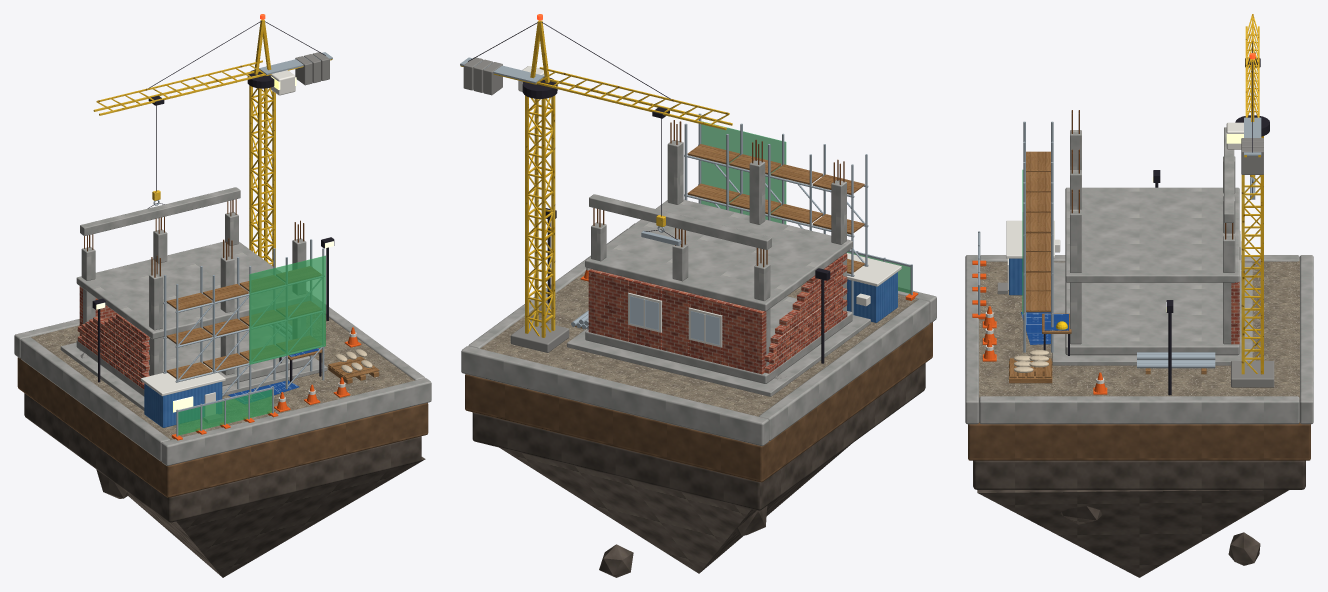
File: scheduling.glb
3 views of the same model, side by side, from view 1: azimuth 30°, elevation 25°; view 2: azimuth 150°, elevation 25°; view 3: azimuth 270°, elevation 25° (orthographic). The views are drawn at different scales.
Parts seen in each view (by area): view 1: site_concrete, site_rock, site_soil, site_net, site_gravel, crane_yellow, site_wood, site_steel, site_brick, site_container, site_white, crane_concrete_dark (+5 smaller); view 2: site_concrete, site_rock, site_soil, site_brick, site_gravel, crane_yellow, site_wood, site_steel, site_net, site_white, site_container, site_glass (+5 smaller); view 3: site_concrete, site_rock, site_gravel, site_soil, site_wood, crane_yellow, site_steel, site_white, site_concrete_dark, site_orange, site_blueprint, crane_concrete_dark (+4 smaller).
Part boxes in pixels (x1,y1,x2,y2): site_concrete: (14, 187, 431, 465); site_rock: (24, 393, 425, 577); site_soil: (17, 357, 428, 497); site_net: (178, 255, 325, 435); site_gravel: (31, 312, 414, 439); crane_yellow: (93, 19, 332, 267); site_wood: (166, 266, 379, 383); site_steel: (163, 239, 324, 436); site_brick: (77, 286, 149, 389); site_container: (144, 382, 222, 427); site_white: (141, 332, 356, 416); crane_concrete_dark: (295, 52, 329, 85); site_concrete: (461, 140, 936, 446); site_rock: (472, 363, 925, 577); site_soil: (465, 322, 932, 482); site_brick: (588, 253, 847, 374); site_gravel: (480, 272, 917, 416); crane_yellow: (460, 20, 732, 337); site_wood: (575, 144, 864, 329); site_steel: (571, 113, 912, 329); site_net: (701, 121, 910, 293); site_white: (586, 253, 901, 347); site_container: (847, 272, 897, 322); site_glass: (630, 296, 719, 344); site_concrete: (965, 127, 1313, 424); site_rock: (973, 460, 1305, 577); site_gravel: (979, 259, 1299, 399); site_soil: (968, 422, 1310, 460); site_wood: (1009, 151, 1206, 383); crane_yellow: (1241, 14, 1263, 374); site_steel: (978, 121, 1215, 368); site_white: (985, 220, 1241, 384); site_concrete_dark: (997, 282, 1274, 387); site_orange: (972, 260, 1107, 394); site_blueprint: (1021, 312, 1068, 344); crane_concrete_dark: (1241, 138, 1263, 174).
Bounding box in the file's own units: 4.35 × 7.27 × 4.
Materials: 14 (14 with a texture image).
